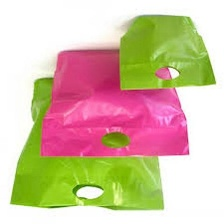plastic_bag: (5, 70, 177, 219), (33, 44, 197, 164), (112, 7, 214, 96)
